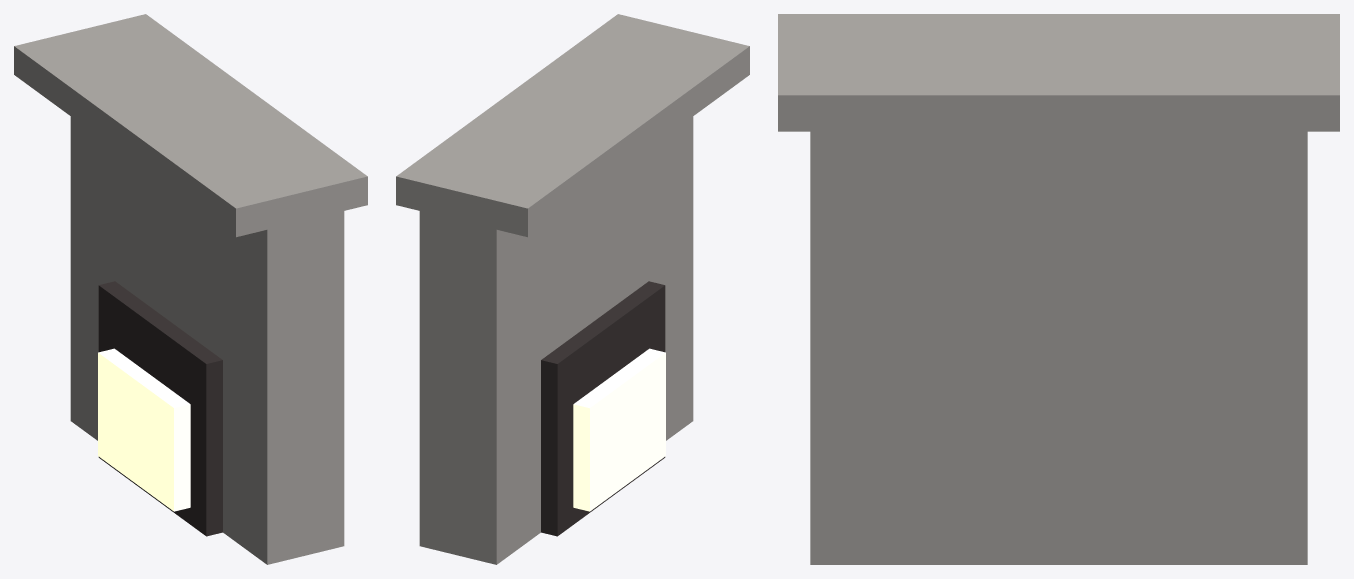
File: Fireplace.fbx
3 views of the same model, side by side, from view 1: azimuth 30°, elevation 25°; view 2: azimuth 150°, elevation 25°; view 3: azimuth 270°, elevation 25° (orthographic). The views are drawn at different scales.
Visible parts, largest first — view 1: FireSurround, FireMantel, FireBox, FireFlames; view 2: FireSurround, FireMantel, FireBox, FireFlames; view 3: FireSurround, FireMantel.
Boxes of the visible parts, x1=… form: FireSurround: x1=70, y1=116, x2=344, y2=564; FireMantel: x1=14, y1=14, x2=367, y2=237; FireBox: x1=98, y1=281, x2=222, y2=536; FireFlames: x1=98, y1=348, x2=190, y2=511; FireSurround: x1=419, y1=116, x2=693, y2=564; FireMantel: x1=396, y1=14, x2=749, y2=237; FireBox: x1=541, y1=281, x2=665, y2=536; FireFlames: x1=573, y1=348, x2=665, y2=511; FireSurround: x1=810, y1=131, x2=1307, y2=564; FireMantel: x1=778, y1=14, x2=1339, y2=131.
Bounding box in the file's own units: 48 × 131 × 140.
